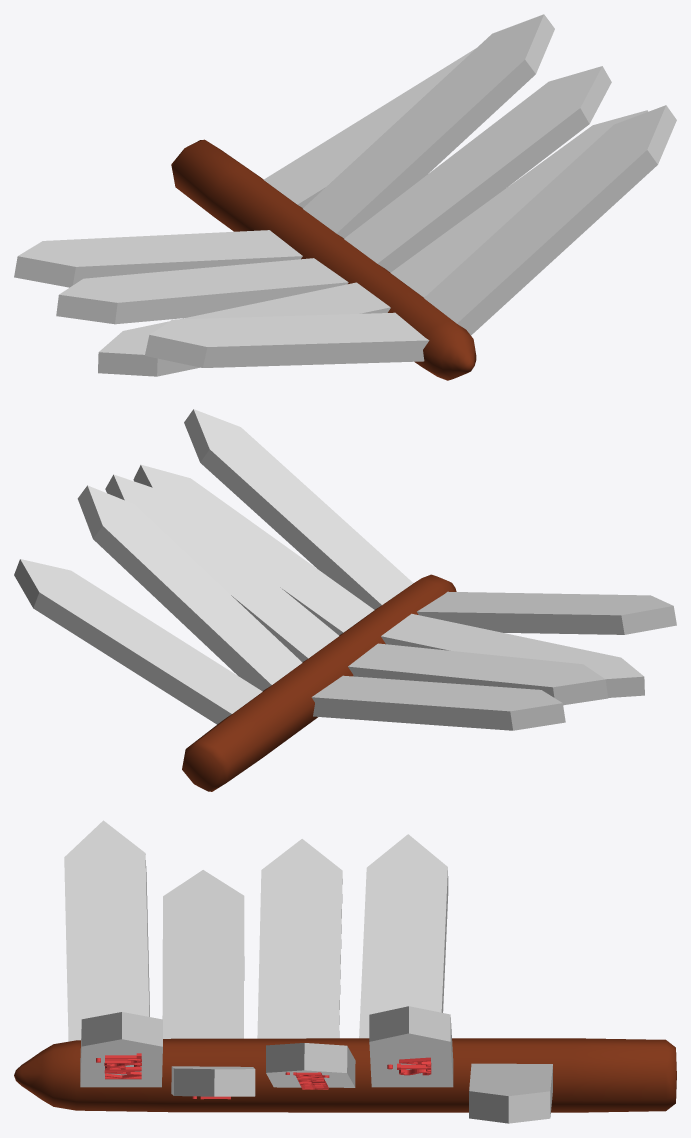
3 views of the same model, one above another, from view 1: azimuth 30°, elevation 25°; view 2: azimuth 150°, elevation 25°; view 3: azimuth 270°, elevation 25° (orthographic). The views are drawn at different scales.
Parts seen in each view (by area): view 1: Cube.009, Cube.012, Cube.011, Cube, Cube.005, Cube.007, Cube.008, Cube.010, Cube.006, Cube.004; view 2: Cube.012, Cube.009, Cube.004, Cube, Cube.008, Cube.011, Cube.005, Cube.010, Cube.007, Cube.006; view 3: Cube, Cube.007, Cube.005, Cube.008, Cube.006, Cube.012, Cube.009, Cube.004, Cube.011, Cube.010, Text.011, Text.016 (+1 smaller).
Part boxes in pixels (<box>): Cube.009: <box>424,105,676,335</box>; Cube.012: <box>303,14,554,238</box>; Cube.011: <box>344,66,611,272</box>; Cube: <box>171,139,476,380</box>; Cube.005: <box>145,312,429,367</box>; Cube.007: <box>56,258,348,324</box>; Cube.008: <box>14,230,302,287</box>; Cube.010: <box>390,110,648,297</box>; Cube.006: <box>98,282,390,376</box>; Cube.004: <box>263,48,475,207</box>; Cube.012: <box>77,485,302,691</box>; Cube.009: <box>184,409,413,609</box>; Cube.004: <box>14,559,262,724</box>; Cube: <box>182,574,456,791</box>; Cube.008: <box>311,675,565,730</box>; Cube.011: <box>105,474,338,662</box>; Cube.005: <box>417,591,676,634</box>; Cube.010: <box>133,464,374,635</box>; Cube.007: <box>348,643,608,705</box>; Cube.006: <box>381,613,644,697</box>; Cube: <box>14,1038,676,1112</box>; Cube.007: <box>257,839,342,1038</box>; Cube.005: <box>64,820,149,1041</box>; Cube.008: <box>359,834,448,1038</box>; Cube.006: <box>162,870,244,1038</box>; Cube.012: <box>369,1006,453,1087</box>; Cube.009: <box>80,1012,162,1087</box>; Cube.004: <box>469,1063,552,1123</box>; Cube.011: <box>266,1043,355,1087</box>; Cube.010: <box>171,1066,255,1096</box>; Text.011: <box>96,1053,141,1079</box>; Text.016: <box>387,1057,431,1075</box>.
Size of the model in its own units: 4.85 by 1.64 by 4.06.
